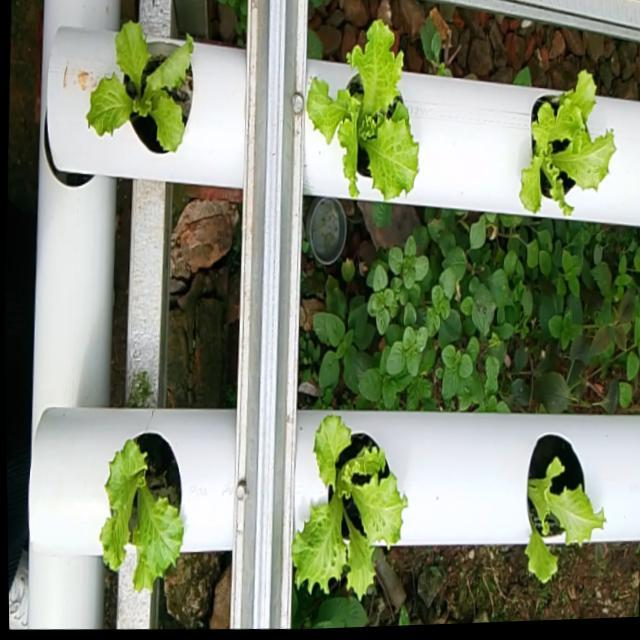Baby: (288, 417, 403, 605), (302, 23, 414, 204), (82, 24, 190, 159), (515, 71, 610, 217), (97, 436, 180, 595), (522, 433, 601, 581)
